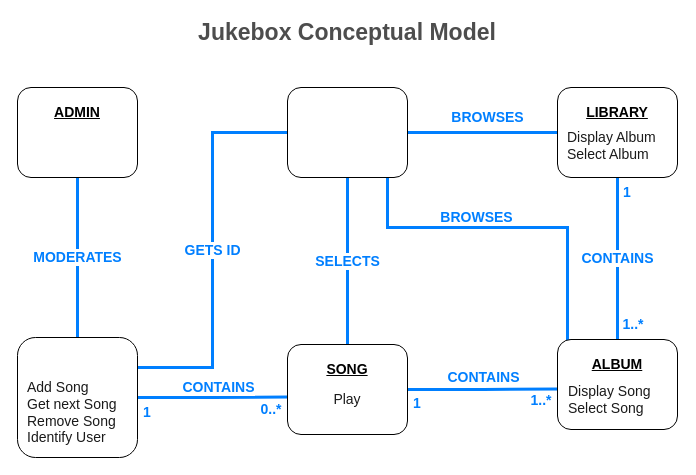
This 696x475 diagram has some shape labels left out. Each missing label, with the box of its shape:
QUEUE: (16, 336, 138, 458)
USER: (286, 86, 408, 178)
